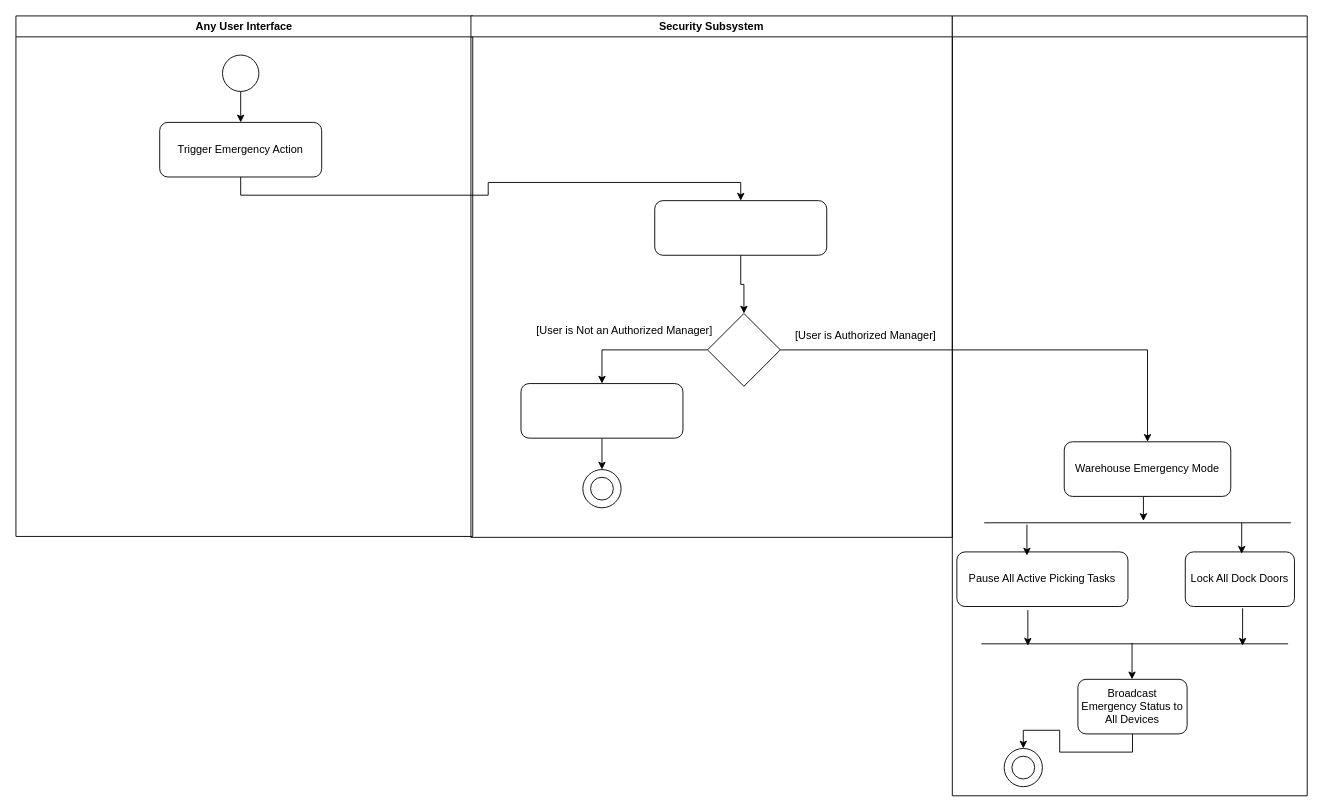
Image size: 1323x812. Some labels were removed from this diagram. The shapes that lost their labels are listed below. From the top down, each one's box as (x1, y1, x2, y2) in pixels, then its label:
(654, 200, 827, 255): Role-Based Access Control (RBAC)
(520, 383, 683, 438): Deny Access & Log Attempt
(951, 15, 1307, 796): Warehouse Operations
